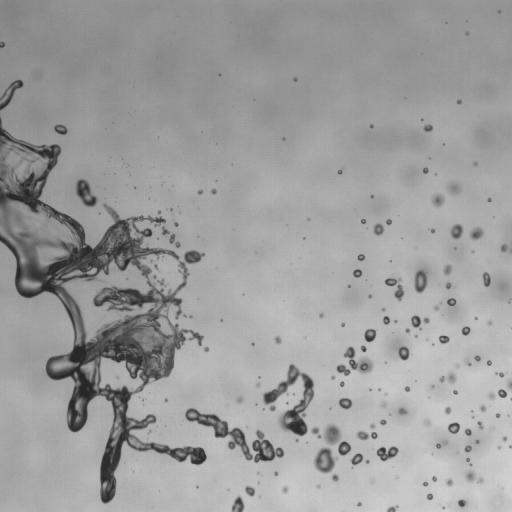droplet: (336, 346, 374, 376), (75, 178, 98, 207), (384, 277, 404, 301), (376, 446, 398, 461), (410, 315, 430, 330), (414, 270, 427, 293), (464, 469, 484, 483), (231, 495, 245, 511), (439, 371, 456, 384), (446, 181, 461, 195), (430, 193, 445, 207), (450, 223, 463, 239), (350, 453, 363, 469), (398, 346, 412, 360), (469, 227, 483, 240), (364, 328, 377, 342), (447, 422, 460, 434), (338, 398, 352, 409), (54, 124, 67, 135), (373, 223, 384, 235), (244, 486, 255, 497), (51, 133, 62, 144), (31, 136, 42, 147), (440, 225, 451, 236), (86, 236, 97, 247), (141, 236, 152, 247), (158, 237, 169, 248), (403, 282, 414, 293), (177, 318, 188, 329), (373, 320, 384, 331), (449, 329, 460, 340), (183, 338, 194, 349), (62, 342, 73, 353), (370, 356, 381, 367), (371, 359, 382, 370), (63, 376, 74, 387), (293, 378, 304, 389), (266, 379, 277, 390), (441, 381, 452, 392), (91, 394, 102, 405), (274, 395, 285, 406), (446, 395, 457, 406), (287, 396, 298, 407), (387, 401, 398, 412), (58, 411, 69, 422), (302, 414, 313, 425), (244, 432, 255, 443), (334, 454, 345, 465), (112, 467, 123, 478), (453, 473, 464, 484), (273, 476, 284, 487), (91, 480, 102, 491), (482, 272, 490, 287), (500, 243, 511, 253), (442, 264, 452, 275), (438, 334, 449, 343), (433, 301, 442, 311), (235, 395, 244, 405), (386, 504, 398, 511), (461, 326, 470, 335), (423, 418, 432, 427), (2, 122, 11, 131), (43, 138, 52, 147), (89, 186, 98, 195), (441, 190, 450, 199), (136, 220, 145, 229), (163, 220, 172, 229), (365, 220, 374, 229), (151, 225, 160, 234), (461, 228, 470, 237), (176, 247, 185, 256), (355, 260, 364, 269), (444, 289, 453, 298), (41, 290, 50, 299), (167, 303, 176, 312), (340, 357, 349, 366), (491, 362, 500, 371), (297, 363, 306, 372), (63, 390, 72, 399), (374, 391, 383, 400), (198, 405, 207, 414), (485, 407, 494, 416), (475, 411, 484, 420), (374, 424, 383, 433), (286, 430, 295, 439), (303, 430, 312, 439), (464, 435, 473, 444), (155, 436, 164, 445), (189, 439, 198, 448), (318, 439, 327, 448), (329, 444, 338, 453), (96, 445, 105, 454), (309, 447, 318, 456), (93, 456, 102, 465), (460, 462, 469, 471), (92, 468, 101, 477), (436, 476, 445, 485), (241, 494, 250, 503), (423, 124, 433, 132), (352, 269, 362, 277), (457, 499, 467, 507), (463, 357, 471, 366), (379, 399, 387, 408), (398, 407, 407, 415), (444, 478, 453, 486), (280, 485, 288, 494), (446, 298, 456, 305), (505, 249, 511, 260), (382, 316, 390, 324), (464, 428, 472, 436), (331, 473, 339, 481), (274, 335, 281, 344), (357, 254, 365, 261), (488, 392, 495, 400), (479, 404, 486, 412), (444, 406, 451, 414), (477, 421, 484, 429), (425, 493, 433, 500), (0, 83, 5, 94), (464, 445, 471, 452), (422, 118, 429, 125), (56, 154, 63, 161), (47, 170, 54, 177), (70, 185, 77, 192), (203, 188, 210, 195), (38, 194, 45, 201), (74, 195, 81, 202), (94, 200, 101, 207), (426, 201, 433, 208), (440, 202, 447, 209), (82, 204, 89, 211), (86, 205, 93, 212), (150, 211, 157, 218), (70, 212, 77, 219), (118, 213, 125, 220), (73, 214, 80, 221), (107, 218, 114, 225), (447, 220, 454, 227), (147, 222, 154, 229), (479, 223, 486, 230), (100, 225, 107, 232), (450, 237, 457, 244), (454, 237, 461, 244), (474, 237, 481, 244), (168, 243, 175, 250), (5, 249, 12, 256), (419, 264, 426, 271), (437, 264, 444, 271), (450, 266, 457, 273), (9, 268, 16, 275), (444, 274, 451, 281), (476, 277, 483, 284), (390, 284, 397, 291), (10, 287, 17, 294), (32, 294, 39, 301), (19, 295, 26, 302), (23, 296, 30, 303), (167, 312, 174, 319), (410, 326, 417, 333), (360, 338, 367, 345), (363, 340, 370, 347), (340, 345, 347, 352), (173, 348, 180, 355), (51, 349, 58, 356), (352, 354, 359, 361), (479, 357, 486, 364), (169, 368, 176, 375), (453, 368, 460, 375), (441, 369, 448, 376), (308, 372, 315, 379), (337, 372, 344, 379), (280, 374, 287, 381), (158, 376, 165, 383), (311, 376, 318, 383), (432, 377, 439, 384), (450, 382, 457, 389), (286, 384, 293, 391), (311, 384, 318, 391), (257, 396, 264, 403), (62, 398, 69, 405), (229, 398, 236, 405), (482, 398, 489, 405), (126, 399, 133, 406), (232, 402, 239, 409), (286, 403, 293, 410), (125, 410, 132, 417), (136, 413, 143, 420), (218, 413, 225, 420), (85, 415, 92, 422), (470, 424, 477, 431), (458, 425, 465, 432), (207, 426, 214, 433), (318, 427, 325, 434), (365, 427, 372, 434), (457, 428, 464, 435), (224, 434, 231, 441), (298, 434, 305, 441), (120, 441, 127, 448), (177, 441, 184, 448), (501, 441, 508, 448), (234, 444, 241, 451), (148, 448, 155, 455), (347, 450, 354, 457), (162, 452, 169, 459), (170, 457, 177, 464), (257, 459, 264, 466), (329, 467, 336, 474), (325, 470, 332, 477), (473, 471, 480, 478), (248, 480, 255, 487), (114, 481, 121, 488), (423, 486, 430, 493), (94, 493, 101, 500), (228, 496, 235, 503), (108, 498, 115, 505), (209, 188, 217, 194), (506, 239, 511, 248), (506, 388, 511, 397), (353, 506, 362, 511), (456, 506, 465, 511), (422, 166, 428, 173), (445, 282, 451, 289), (360, 345, 366, 352), (474, 355, 481, 361), (255, 381, 261, 388), (379, 419, 386, 425), (431, 475, 437, 482), (197, 189, 203, 195), (203, 346, 209, 352), (339, 381, 345, 387), (369, 423, 375, 429), (435, 443, 441, 449), (428, 228, 435, 233), (405, 328, 410, 335), (370, 477, 375, 484), (0, 41, 5, 47), (472, 161, 478, 166), (386, 219, 391, 225), (173, 221, 178, 227), (319, 312, 324, 318), (454, 363, 459, 369), (404, 386, 410, 391), (453, 389, 458, 395), (422, 481, 428, 486), (507, 437, 511, 444), (225, 507, 232, 511), (456, 99, 461, 104), (361, 218, 366, 223), (487, 320, 492, 325), (486, 360, 491, 365), (502, 436, 507, 441), (316, 483, 321, 488), (357, 502, 362, 507), (288, 74, 293, 79), (13, 75, 18, 80), (18, 75, 23, 80), (7, 78, 12, 83), (21, 78, 26, 83), (22, 81, 27, 86), (14, 88, 19, 93), (460, 97, 465, 102), (9, 98, 14, 103), (3, 105, 8, 110), (56, 119, 61, 124), (367, 119, 372, 124), (60, 120, 65, 125), (430, 121, 435, 126), (65, 124, 70, 129), (425, 130, 430, 135), (56, 132, 61, 137), (78, 174, 83, 179), (211, 183, 216, 188), (195, 185, 200, 190), (41, 186, 46, 191), (215, 190, 220, 195), (211, 193, 216, 198), (55, 206, 60, 211), (63, 209, 68, 214), (133, 212, 138, 217), (384, 214, 389, 219), (455, 219, 460, 224), (381, 221, 386, 226), (368, 226, 373, 231), (150, 233, 155, 238), (165, 233, 170, 238), (372, 233, 377, 238), (378, 233, 383, 238), (173, 236, 178, 241), (139, 243, 144, 248), (495, 245, 500, 250), (186, 246, 191, 251), (197, 248, 202, 253), (359, 249, 364, 254), (504, 249, 509, 254), (200, 255, 205, 260), (11, 256, 16, 261), (179, 256, 184, 261), (184, 262, 189, 267), (348, 272, 353, 277), (359, 274, 364, 279), (392, 274, 397, 279), (425, 277, 430, 282), (489, 278, 494, 283), (440, 283, 445, 288), (180, 286, 185, 291), (401, 286, 406, 291), (422, 288, 427, 293), (174, 293, 179, 298), (401, 294, 406, 299), (392, 296, 397, 301), (442, 297, 447, 302), (433, 299, 438, 304), (179, 302, 184, 307), (381, 311, 386, 316), (409, 311, 414, 316), (313, 312, 318, 317), (178, 313, 183, 318), (322, 314, 327, 319), (427, 314, 432, 319), (388, 315, 393, 320), (65, 316, 70, 321), (170, 319, 175, 324), (388, 319, 393, 324), (419, 321, 424, 326), (370, 324, 375, 329), (408, 324, 413, 329), (457, 325, 462, 330), (192, 327, 197, 332), (198, 330, 203, 335), (375, 330, 380, 335), (457, 330, 462, 335), (273, 331, 278, 336), (69, 333, 74, 338), (373, 336, 378, 341), (448, 336, 453, 341), (192, 337, 197, 342), (280, 337, 285, 342), (200, 338, 205, 343), (270, 338, 275, 343), (400, 341, 405, 346), (442, 342, 447, 347), (274, 343, 279, 348), (44, 354, 49, 359), (407, 354, 412, 359), (396, 356, 401, 361), (470, 358, 475, 363), (41, 360, 46, 365), (345, 363, 350, 368), (349, 368, 354, 373), (41, 369, 46, 374), (503, 373, 508, 378), (443, 378, 448, 383), (143, 384, 148, 389), (503, 386, 508, 391), (371, 387, 376, 392), (378, 390, 383, 395), (483, 391, 488, 396), (233, 392, 238, 397), (312, 393, 317, 398), (341, 393, 346, 398), (494, 393, 499, 398), (242, 394, 247, 399), (298, 394, 303, 399), (383, 395, 388, 400), (350, 398, 355, 403), (294, 399, 299, 404), (106, 400, 111, 405), (241, 400, 246, 405), (350, 402, 355, 407), (188, 403, 193, 408), (185, 404, 190, 409), (403, 405, 408, 410), (440, 406, 445, 411), (340, 407, 345, 412), (346, 407, 351, 412), (393, 407, 398, 412), (147, 409, 152, 414), (208, 409, 213, 414), (153, 411, 158, 416), (180, 412, 185, 417), (401, 413, 406, 418), (383, 415, 388, 420), (449, 418, 454, 423), (472, 418, 477, 423), (154, 419, 159, 424), (184, 419, 189, 424), (192, 419, 197, 424), (481, 421, 486, 426), (147, 422, 152, 427), (199, 423, 204, 428), (227, 425, 232, 430), (64, 426, 69, 431), (80, 426, 85, 431), (259, 427, 264, 432), (372, 427, 377, 432), (241, 428, 246, 433), (67, 429, 72, 434), (128, 429, 133, 434), (445, 430, 450, 435), (501, 431, 506, 436), (449, 432, 454, 437), (294, 433, 299, 438), (312, 433, 317, 438), (252, 434, 257, 439), (263, 434, 268, 439), (497, 434, 502, 439), (216, 436, 221, 441), (146, 438, 151, 443), (102, 439, 107, 444), (346, 439, 351, 444), (393, 442, 398, 447), (470, 442, 475, 447), (376, 443, 381, 448), (460, 443, 465, 448), (169, 444, 174, 449), (272, 444, 277, 449), (225, 447, 230, 452), (459, 447, 464, 452), (282, 448, 287, 453), (134, 449, 139, 454), (139, 450, 144, 455), (204, 450, 209, 455), (465, 451, 470, 456), (240, 454, 245, 459), (185, 455, 190, 460), (273, 455, 278, 460), (375, 455, 380, 460), (386, 457, 391, 462), (249, 458, 254, 463), (360, 459, 365, 464), (201, 460, 206, 465), (192, 463, 197, 468), (469, 465, 474, 470), (434, 472, 439, 477), (337, 473, 342, 478), (255, 474, 260, 479), (444, 474, 449, 479), (451, 477, 456, 482), (427, 478, 432, 483), (471, 479, 476, 484), (331, 480, 336, 485), (477, 482, 482, 487), (278, 483, 283, 488), (444, 484, 449, 489), (287, 487, 292, 492), (277, 489, 282, 494), (253, 490, 258, 495), (458, 494, 463, 499), (423, 497, 428, 502), (390, 501, 395, 506), (453, 501, 458, 506), (386, 502, 391, 507), (341, 321, 345, 327), (147, 428, 151, 434), (0, 241, 3, 248), (337, 170, 342, 174), (487, 197, 491, 202), (306, 217, 311, 221), (124, 276, 128, 281), (381, 307, 385, 312), (414, 333, 418, 338), (331, 375, 335, 380), (430, 384, 434, 389), (496, 413, 500, 418), (294, 438, 299, 442), (475, 439, 479, 444), (274, 471, 278, 476), (395, 474, 399, 479), (465, 31, 469, 35), (293, 77, 297, 81), (369, 124, 373, 128), (368, 294, 372, 298), (285, 401, 289, 405), (497, 445, 501, 449), (365, 459, 369, 463), (444, 440, 447, 445), (241, 508, 246, 511), (394, 508, 399, 511), (497, 10, 501, 13), (370, 194, 373, 198), (470, 250, 474, 253), (189, 315, 193, 318), (425, 337, 428, 341), (251, 342, 254, 346), (377, 388, 381, 391), (164, 398, 167, 402), (0, 36, 2, 41), (0, 91, 2, 96), (218, 73, 221, 76), (420, 118, 423, 121), (282, 137, 285, 140), (442, 142, 445, 145), (178, 211, 181, 214), (196, 234, 199, 237), (347, 284, 350, 287), (474, 316, 477, 319), (220, 318, 223, 321), (394, 320, 397, 323), (384, 361, 387, 364), (116, 376, 119, 379), (414, 379, 417, 382), (369, 388, 372, 391), (384, 392, 387, 395), (141, 398, 144, 401), (470, 409, 473, 412), (257, 481, 260, 484), (227, 488, 230, 491), (442, 506, 445, 509), (444, 23, 447, 26), (216, 70, 219, 73), (219, 70, 222, 73), (215, 74, 218, 77), (295, 74, 298, 77), (219, 75, 222, 78), (296, 79, 299, 82), (292, 80, 295, 83), (457, 96, 460, 99), (453, 100, 456, 103), (456, 103, 459, 106), (371, 121, 374, 124), (368, 127, 371, 130), (65, 131, 68, 134), (280, 134, 283, 137), (283, 134, 286, 137), (278, 137, 281, 140), (439, 143, 442, 146), (444, 143, 447, 146), (124, 163, 127, 166), (337, 166, 340, 169), (419, 169, 422, 172), (334, 170, 337, 173), (341, 170, 344, 173), (426, 171, 429, 174), (337, 173, 340, 176), (433, 175, 436, 178), (130, 185, 133, 188), (135, 185, 138, 188), (208, 187, 211, 190), (194, 190, 197, 193), (208, 191, 211, 194), (370, 191, 373, 194), (199, 193, 202, 196), (367, 194, 370, 197), (373, 194, 376, 197), (484, 197, 487, 200), (490, 197, 493, 200), (147, 199, 150, 202), (487, 201, 490, 204), (167, 205, 170, 208), (171, 205, 174, 208), (171, 209, 174, 212), (143, 214, 146, 217), (362, 215, 365, 218), (389, 216, 392, 219), (365, 218, 368, 221), (357, 219, 360, 222), (176, 220, 179, 223), (391, 220, 394, 223), (359, 222, 362, 225), (389, 223, 392, 226), (176, 225, 179, 228), (432, 225, 435, 228), (427, 229, 430, 232), (434, 229, 437, 232), (169, 231, 172, 234), (431, 232, 434, 235), (302, 233, 305, 236), (299, 236, 302, 239), (305, 236, 308, 239), (302, 239, 305, 242), (204, 252, 207, 255), (354, 255, 357, 258), (388, 256, 391, 259), (361, 259, 364, 262), (391, 259, 394, 262), (387, 261, 390, 264), (353, 266, 356, 269), (361, 271, 364, 274), (186, 275, 189, 278), (386, 275, 389, 278), (353, 276, 356, 279), (356, 276, 359, 279), (344, 284, 347, 287), (350, 284, 353, 287), (449, 286, 452, 289), (347, 287, 350, 290), (367, 291, 370, 294), (364, 294, 367, 297), (371, 294, 374, 297), (241, 295, 244, 298), (446, 296, 449, 299), (453, 296, 456, 299), (366, 297, 369, 300), (505, 298, 508, 301), (455, 300, 458, 303), (445, 303, 448, 306), (380, 304, 383, 307), (449, 305, 452, 308), (186, 313, 189, 316), (474, 313, 477, 316), (192, 314, 195, 317), (471, 316, 474, 319), (477, 316, 480, 319), (216, 318, 219, 321), (222, 319, 225, 322), (474, 319, 477, 322), (396, 320, 399, 323), (219, 321, 222, 324), (338, 321, 341, 324), (344, 322, 347, 325), (384, 323, 387, 326), (464, 323, 467, 326), (489, 324, 492, 327), (341, 326, 344, 329), (402, 328, 405, 331), (469, 328, 472, 331), (468, 331, 471, 334), (405, 332, 408, 335), (443, 332, 446, 335), (462, 334, 465, 337), (414, 337, 417, 340), (436, 339, 439, 342), (248, 340, 251, 343), (254, 342, 257, 345), (428, 342, 431, 345), (248, 343, 251, 346), (208, 348, 211, 351), (204, 351, 207, 354), (408, 351, 411, 354), (475, 352, 478, 355), (472, 353, 475, 356), (490, 359, 493, 362), (386, 361, 389, 364), (381, 362, 384, 365), (484, 363, 487, 366), (490, 363, 493, 366), (465, 364, 468, 367), (487, 365, 490, 368), (497, 369, 500, 372), (257, 372, 260, 375), (328, 374, 331, 377), (438, 374, 441, 377), (496, 374, 499, 377), (258, 378, 261, 381), (406, 383, 409, 386), (337, 384, 340, 387), (377, 384, 380, 387), (342, 385, 345, 388), (369, 385, 372, 388), (401, 387, 404, 390), (409, 387, 412, 390), (432, 387, 435, 390), (365, 388, 368, 391), (456, 389, 459, 392), (369, 390, 372, 393), (376, 390, 379, 393), (406, 391, 409, 394), (452, 393, 455, 396), (161, 398, 164, 401), (167, 398, 170, 401), (143, 399, 146, 402), (164, 401, 167, 404), (325, 407, 328, 410), (497, 410, 500, 413), (470, 412, 473, 415), (492, 414, 495, 417), (499, 414, 502, 417), (495, 417, 498, 420), (478, 418, 481, 421), (369, 420, 372, 423), (475, 423, 478, 426), (376, 432, 379, 435), (463, 433, 466, 436), (478, 439, 481, 442), (436, 440, 439, 443), (439, 441, 442, 444), (433, 446, 436, 449), (494, 447, 497, 450), (508, 447, 511, 450), (373, 449, 376, 452), (462, 458, 465, 461), (465, 461, 468, 464), (350, 463, 353, 466), (271, 471, 274, 474), (277, 471, 280, 474), (436, 477, 439, 480), (422, 478, 425, 481), (198, 484, 201, 487), (192, 485, 195, 488), (432, 495, 435, 498), (359, 499, 362, 502), (354, 501, 357, 504), (356, 505, 359, 508), (444, 505, 447, 508), (509, 445, 511, 449), (447, 503, 449, 507), (434, 173, 437, 175), (133, 186, 135, 189), (148, 196, 150, 199), (155, 237, 158, 239), (302, 237, 305, 239), (453, 247, 456, 249), (432, 342, 434, 345), (427, 396, 430, 398), (254, 403, 257, 405), (262, 408, 265, 410), (388, 413, 391, 415), (507, 414, 509, 417), (471, 416, 474, 418), (196, 485, 198, 488), (509, 299, 511, 302), (509, 302, 511, 305), (509, 413, 511, 416), (441, 509, 444, 511), (428, 157, 430, 159), (98, 212, 100, 214), (389, 260, 391, 262), (242, 293, 244, 295), (258, 376, 260, 378), (292, 393, 294, 395), (138, 396, 140, 398), (329, 407, 331, 409), (156, 425, 158, 427), (306, 441, 308, 443), (431, 453, 433, 455), (132, 470, 134, 472), (0, 46, 1, 49), (445, 22, 447, 23), (401, 237, 402, 239), (510, 327, 511, 329)
ligament: (263, 363, 351, 473), (185, 408, 284, 462), (0, 79, 23, 111), (497, 377, 511, 398), (356, 430, 377, 441), (494, 371, 507, 377), (166, 207, 174, 215), (466, 457, 472, 466), (257, 471, 262, 475), (508, 298, 511, 303), (304, 335, 306, 339), (510, 397, 511, 401)
